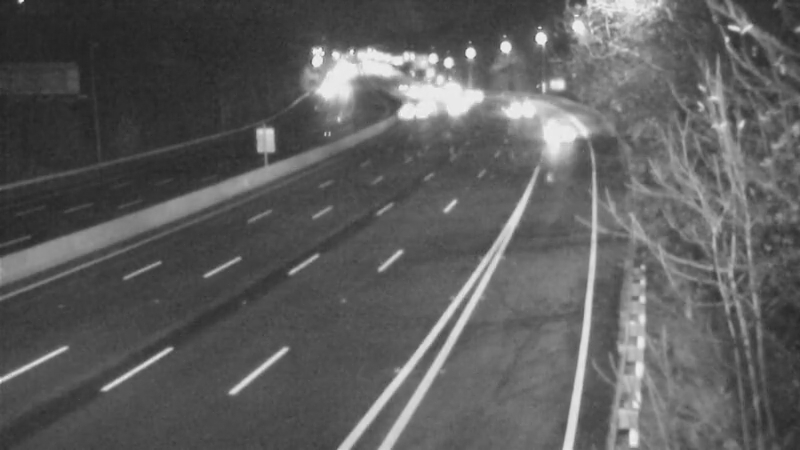vehicle: (435, 81, 485, 131), (484, 76, 534, 126), (379, 83, 429, 133), (531, 103, 581, 153)
